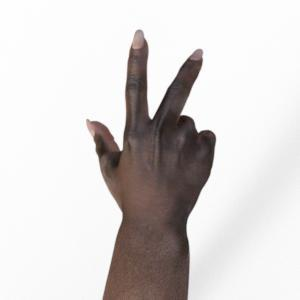scissors: (87, 30, 216, 300)
